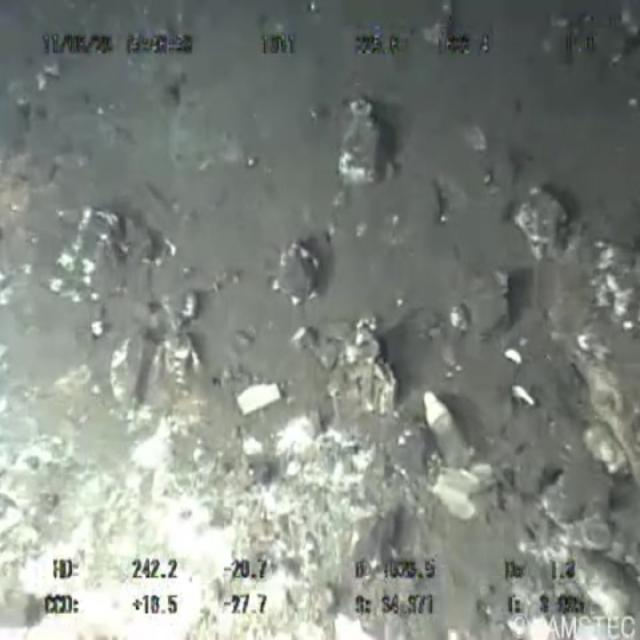Plastic: (395, 379, 496, 501)
